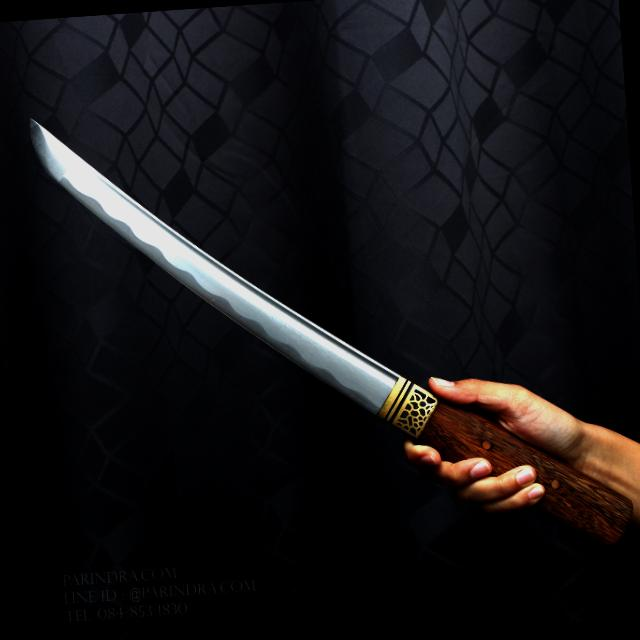short sword: (12, 59, 640, 598)
